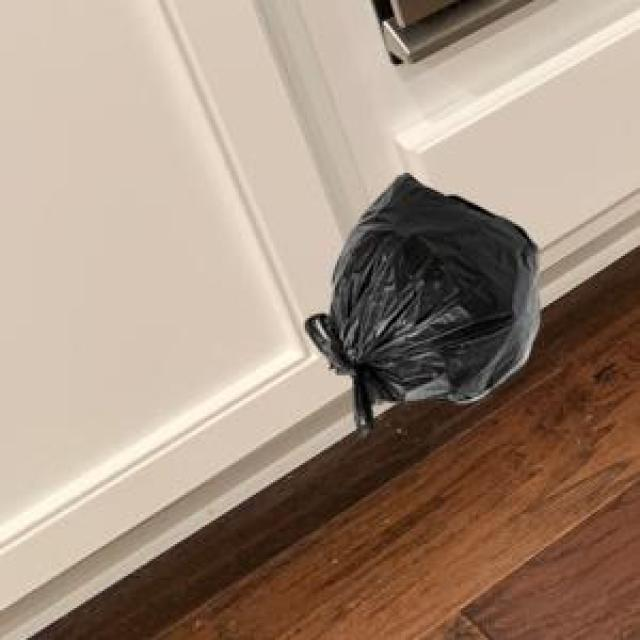waste: (305, 174, 540, 428)
